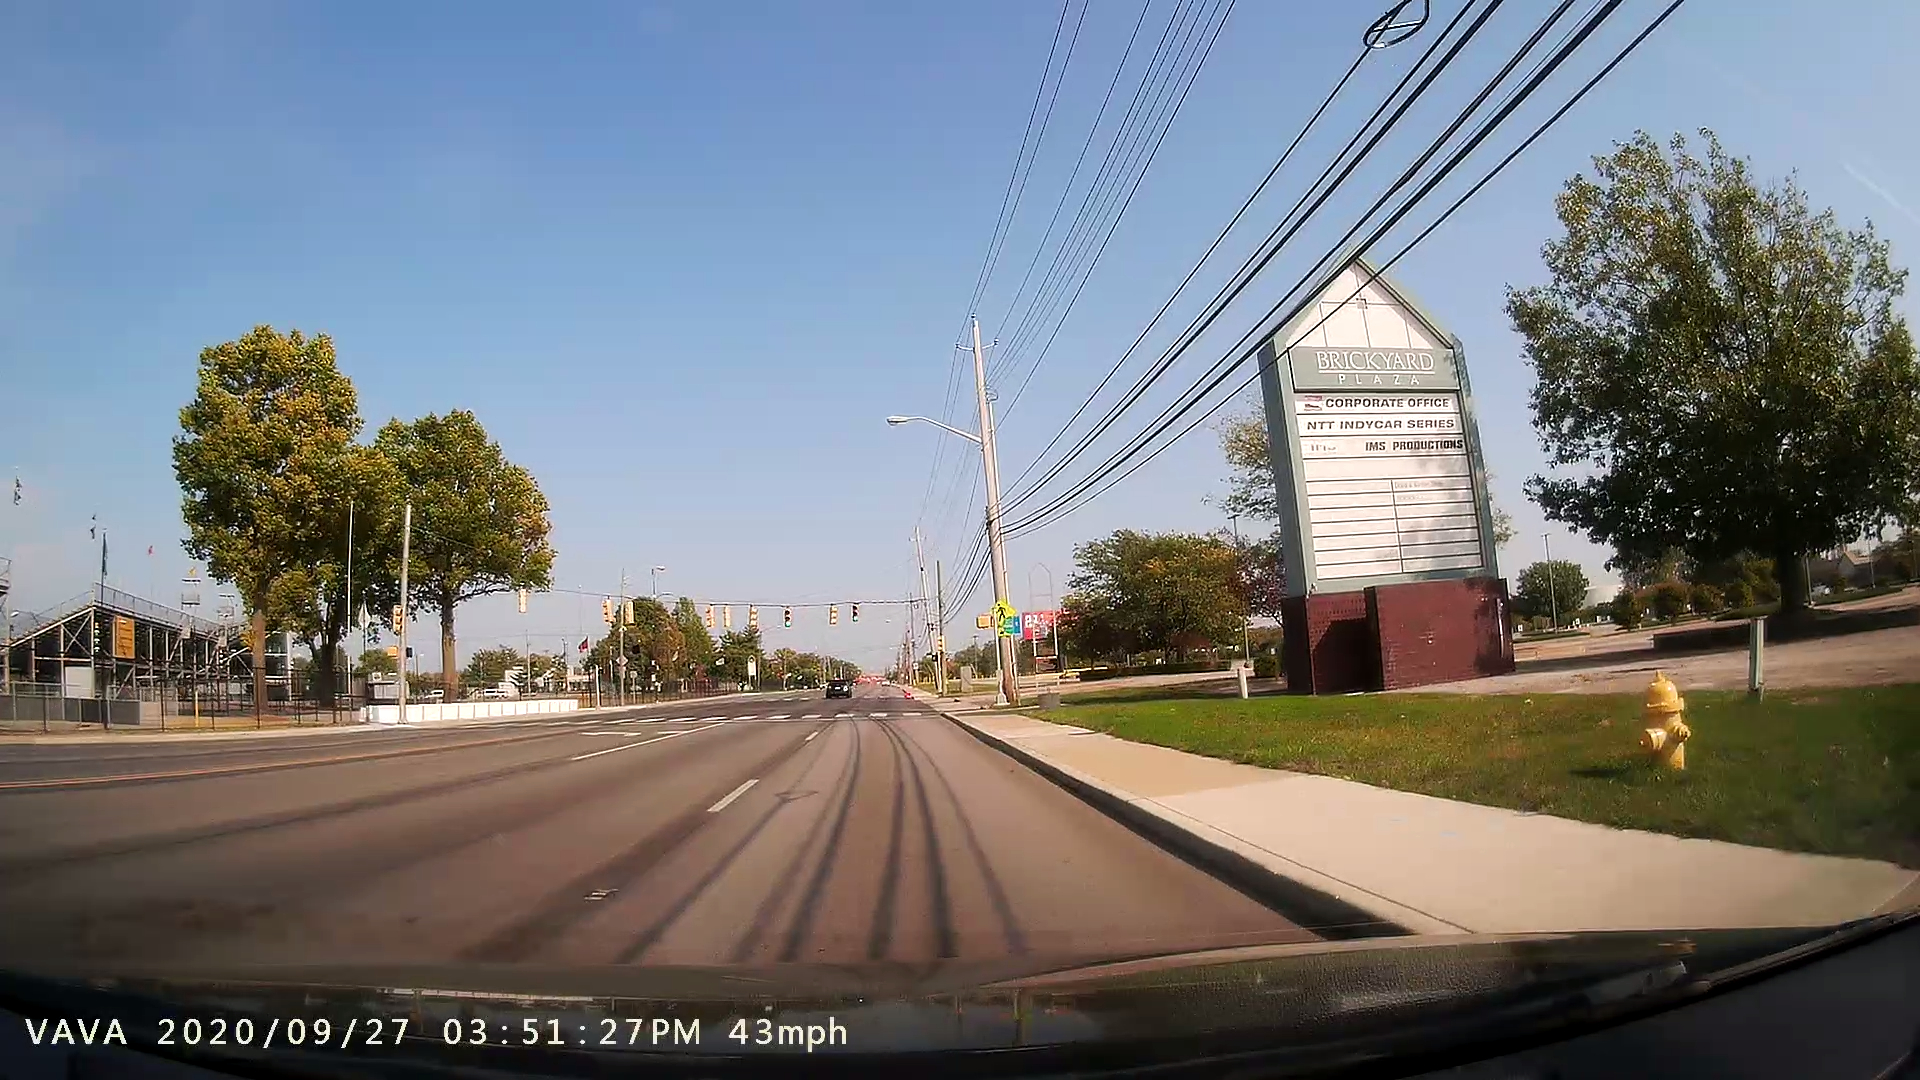fire_hydrant: (1613, 669, 1706, 785)
